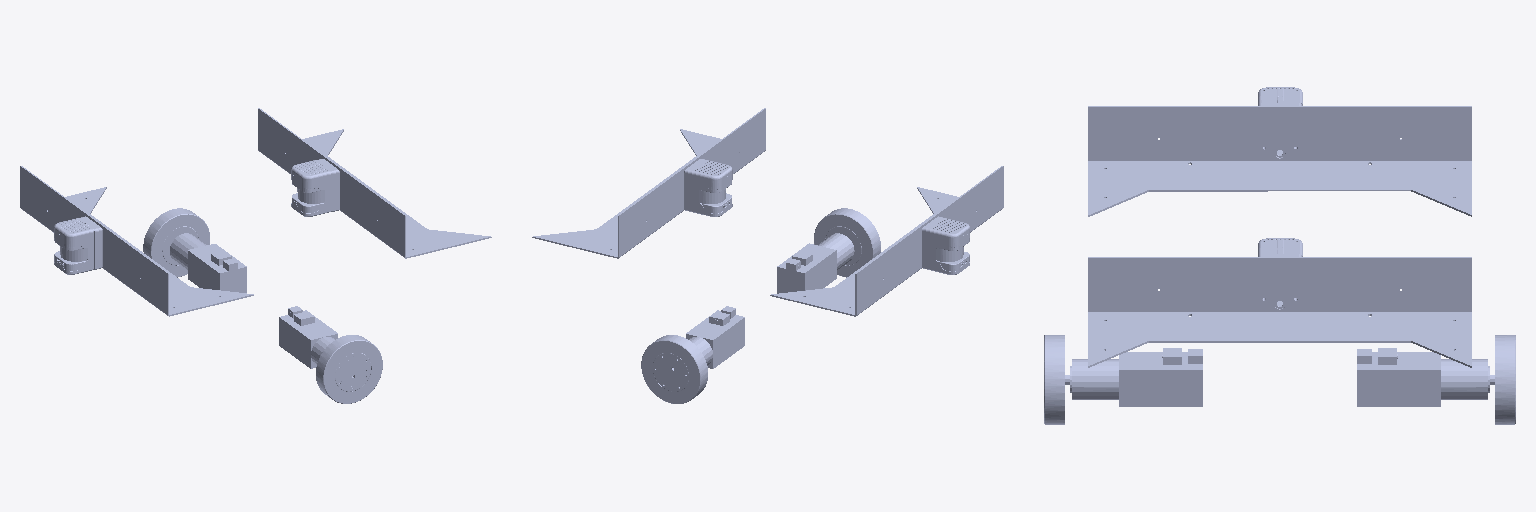
URDF robot description (ip200):
<?xml version="1.0" encoding="utf-8"?>
<!-- This URDF was automatically created by SolidWorks to URDF Exporter! Originally created by [author] ([email redacted]) 
     Commit Version: 1.6.0-1-g15f4949  Build Version: 1.6.7594.29634
     For more information, please see http://wiki.ros.org/sw_urdf_exporter -->
<robot
  name="ip200">
  <link name="base_footprint"/>
  
  <joint name="base_joint" type="fixed">
    <parent link="base_footprint"/>
    <child link="base_link" />
    <origin xyz="0 0 0.0335" rpy="0 0 0"/>
  </joint>
  
  <link
    name="base_link">
    <inertial>
      <origin
        xyz="-8.074233413775E-05 0.00167010666358344 0.253055984044282"
        rpy="0 0 0" />
      <mass
        value="19.2341768436338" />
      <inertia
        ixx="0.73131577307895"
        ixy="0.00084688488709123"
        ixz="0.00164494760727376"
        iyy="0.724104006445325"
        iyz="-5.57752444312045E-05"
        izz="1.39581073958625" />
    </inertial>
    <visual>
      <origin
        xyz="0 0 0"
        rpy="0 0 0" />
      <geometry>
        <mesh
          filename="package://ip200_description/meshes/rw_description.STL" />
      </geometry>
      <material
        name="">
        <color
          rgba="0.792156862745098 0.819607843137255 0.933333333333333 1" />
      </material>
    </visual>
    <collision>
      <origin
        xyz="0 0 0"
        rpy="0 0 0" />
      <geometry>
        <mesh
          filename="package://ip200_description/meshes/rw_description.STL" />
      </geometry>
    </collision>
  </link>
  <link
    name="l_rear_wheel">
    <inertial>
      <origin
        xyz="3.60441696500543E-06 -0.0923002305760895 0.000587940142489175"
        rpy="0 0 0" />
      <mass
        value="1.04815459938863" />
      <inertia
        ixx="0.00261088701633814"
        ixy="1.31102007184665E-08"
        ixz="-3.81505861905977E-08"
        iyy="0.00121500177792377"
        iyz="3.58019706903565E-05"
        izz="0.00258940454618749" />
    </inertial>
    <visual>
      <origin
        xyz="0 0 0"
        rpy="0 0 0" />
      <geometry>
        <mesh
          filename="package://ip200_description/meshes/l_rear_wheel.STL" />
      </geometry>
      <material
        name="">
        <color
          rgba="0.792156862745098 0.819607843137255 0.933333333333333 1" />
      </material>
    </visual>
    <collision>
      <origin
        xyz="0 0 0"
        rpy="0 0 0" />
      <geometry>
        <mesh
          filename="package://ip200_description/meshes/l_rear_wheel.STL" />
      </geometry>
    </collision>
  </link>
  <joint
    name="l_rear_wheel"
    type="continuous">
    <origin
      xyz="0 0.3405 0.0649999999999999"
      rpy="0 0 0" />
    <parent
      link="base_link" />
    <child
      link="l_rear_wheel" />
    <axis
      xyz="0 -1 0" />
  </joint>
  <link
    name="r_rear_wheel">
    <inertial>
      <origin
        xyz="-1.93085150211863E-07 0.0922981752597209 0.000601150921649272"
        rpy="0 0 0" />
      <mass
        value="1.04812748709294" />
      <inertia
        ixx="0.00261080454514841"
        ixy="1.80765553467149E-08"
        ixz="8.41125092686639E-09"
        iyy="0.00121496443053289"
        iyz="-3.57478245635109E-05"
        izz="0.0025893893403154" />
    </inertial>
    <visual>
      <origin
        xyz="0 0 0"
        rpy="0 0 0" />
      <geometry>
        <mesh
          filename="package://ip200_description/meshes/r_rear_wheel.STL" />
      </geometry>
      <material
        name="">
        <color
          rgba="0.792156862745098 0.819607843137255 0.933333333333333 1" />
      </material>
    </visual>
    <collision>
      <origin
        xyz="0 0 0"
        rpy="0 0 0" />
      <geometry>
        <mesh
          filename="package://ip200_description/meshes/r_rear_wheel.STL" />
      </geometry>
    </collision>
  </link>
  <joint
    name="r_rear_wheel"
    type="continuous">
    <origin
      xyz="0 -0.3405 0.0649999999996"
      rpy="0 0 0" />
    <parent
      link="base_link" />
    <child
      link="r_rear_wheel" />
    <axis
      xyz="0 1 0" />
  </joint>
  <link
    name="rear_lidar">
    <inertial>
      <origin
        xyz="-0.4055605350155 -6.19753136898854E-05 -0.0147536372771876"
        rpy="0 0 0" />
      <mass
        value="0.385651153728386" />
      <inertia
        ixx="0.00973637361531699"
        ixy="-4.55675275538205E-11"
        ixz="-0.000217121449304545"
        iyy="0.000870251294406086"
        iyz="1.24939133642565E-11"
        izz="0.00999879780357618" />
    </inertial>
    <visual>
      <origin
        xyz="0 0 0"
        rpy="0 0 0" />
      <geometry>
        <mesh
          filename="package://ip200_description/meshes/front_lidar.STL" />
      </geometry>
      <material
        name="">
        <color
          rgba="0.792156862745098 0.819607843137255 0.933333333333333 1" />
      </material>
    </visual>
    <collision>
      <origin
        xyz="0 0 0"
        rpy="0 0 0" />
      <geometry>
        <mesh
          filename="package://ip200_description/meshes/front_lidar.STL" />
      </geometry>
    </collision>
  </link>
  <joint
    name="rear_lidar"
    type="fixed">
    <origin
      xyz="-0.4055605350155 0 0.2092511729546"
      rpy="0 0 -3.14" />
    <parent
      link="base_scan" />
    <child
      link="rear_lidar" />
    <axis
      xyz="0 0 1" />
  </joint>
  <joint name="scan_joint" type="fixed">
    <parent link="base_link"/>
    <child link="base_scan"/>
    <origin xyz="0.0 0 0.07" rpy="0.0 0 0.0"/>
  </joint>

  <link name="base_scan">
    <origin xyz="0 0 0.0" rpy="0 0 0"/>
  </link>



  <link
    name="front_lidar">
    <inertial>
      <origin
        xyz="0.1111605350155 6.19753136896356E-05 -0.0147536372771875"
        rpy="0 0 0" />
      <mass
        value="0.385651153728386" />
      <inertia
        ixx="0.00973637361531705"
        ixy="-4.55675265329909E-11"
        ixz="0.000217099148045366"
        iyy="0.000870212405273177"
        iyz="-1.2493916469303E-11"
        izz="0.00999875891444332" />
    </inertial>
    <visual>
      <origin
        xyz="0 0 0"
        rpy="0 0 0" />
      <geometry>
        <mesh
          filename="package://ip200_description/meshes/rear_lidar.STL" />
      </geometry>
      <material
        name="">
        <color
          rgba="0.792156862745098 0.819607843137255 0.933333333333333 1" />
      </material>
    </visual>
    <collision>
      <origin
        xyz="0 0 0"
        rpy="0 0 0" />
      <geometry>
        <mesh
          filename="package://ip200_description/meshes/rear_lidar.STL" />
      </geometry>
    </collision>
  </link>

  <joint
    name="front_lidar"
    type="fixed">
    <origin
      xyz="0.1111605350155 0 0.2092511729546"
      rpy="0 0 0" />
    <parent
      link="base_scan" />
    <child
      link="front_lidar" />
    <axis
      xyz="0 0 1" />
  </joint>
</robot>

--- Facts derived from the render (not from the file) ---
Views: 3 orthographic renders of the robot side by side, from view 1: azimuth 30°, elevation 25°; view 2: azimuth 150°, elevation 25°; view 3: azimuth 270°, elevation 25°.
Model ip200 with 7 links and 6 joints (2 continuous, 4 fixed), rooted at base_footprint, posed all joints at 0.
Links seen in each view (by area): view 1: rear_lidar, front_lidar, r_rear_wheel, l_rear_wheel; view 2: rear_lidar, front_lidar, l_rear_wheel, r_rear_wheel; view 3: front_lidar, rear_lidar, l_rear_wheel, r_rear_wheel.
Boxes of the visible links, x1,y1,x2,y2 form: rear_lidar: (20, 166, 253, 316); front_lidar: (258, 108, 491, 258); r_rear_wheel: (279, 306, 382, 403); l_rear_wheel: (143, 208, 246, 292); rear_lidar: (770, 166, 1003, 316); front_lidar: (532, 108, 765, 258); l_rear_wheel: (641, 306, 744, 403); r_rear_wheel: (777, 208, 880, 293); front_lidar: (1088, 238, 1471, 367); rear_lidar: (1088, 87, 1471, 216); l_rear_wheel: (1357, 335, 1515, 424); r_rear_wheel: (1044, 335, 1202, 424).
Bounding box of the posed robot: 0.7802 × 0.681 × 0.3305 m (x, y, z).
4 mesh visuals loaded from 5 distinct referenced files (4 binary STL); not drawn: 1 (reference not matched to a file when rendering).
